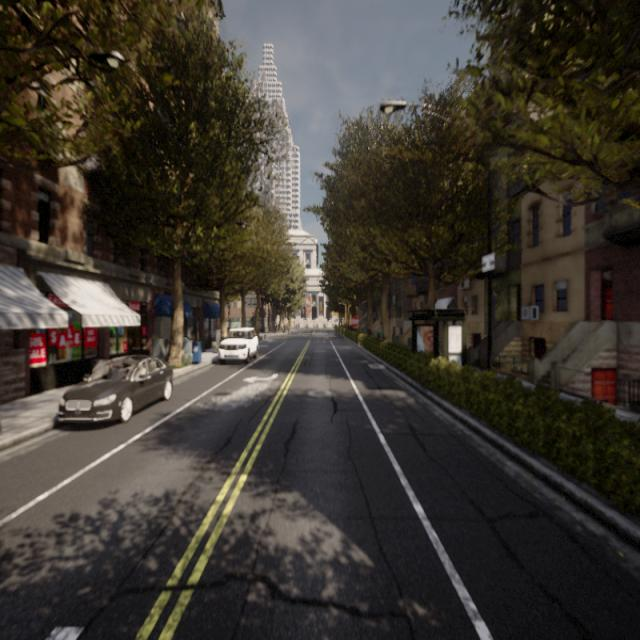stop sign: (348, 313, 361, 331)
